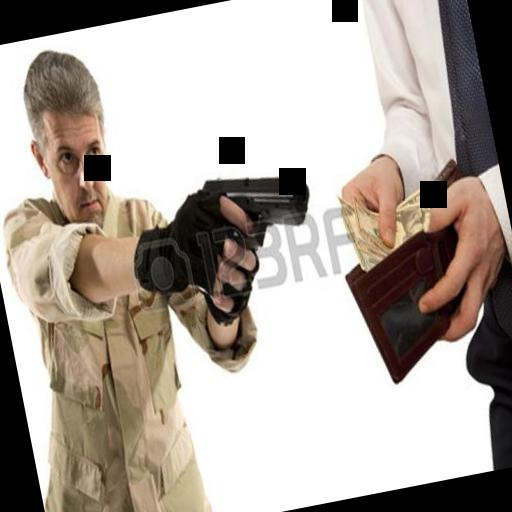Handgun: (180, 154, 326, 312)
